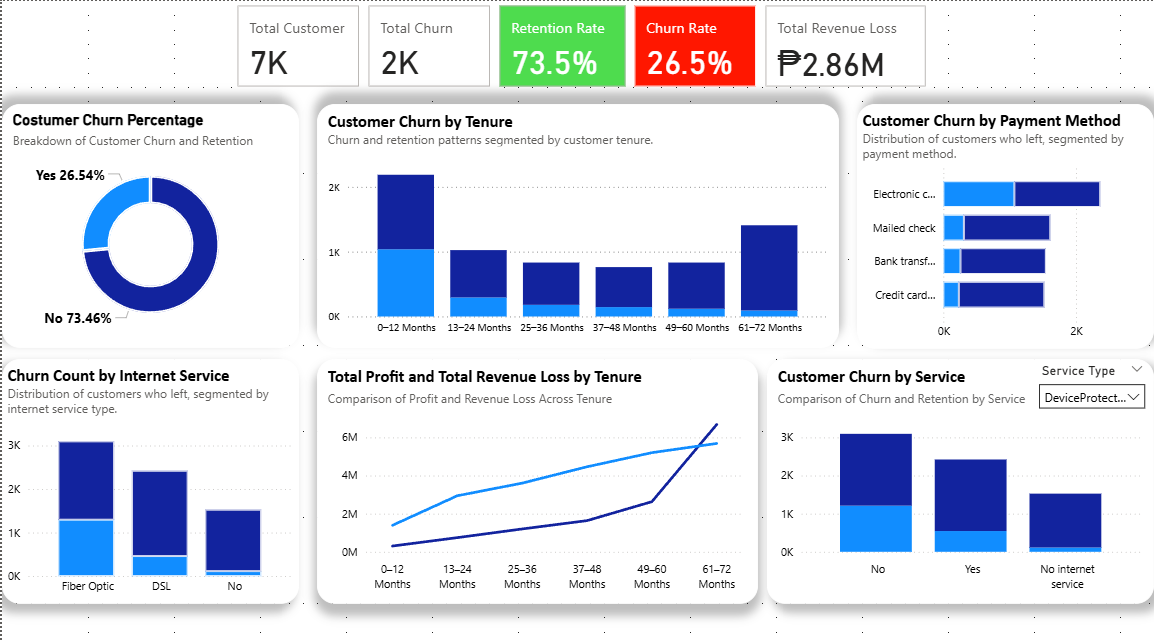

This screenshot's page, from the dashboard's own definition file:
{"tool":"powerbi","page":{"name":"Dashboard","canvas":[1280,720],"ordinal":0},"visuals":[{"type":"columnChart","title":"Customer Churn by Service","fields":{"Category":["ServiceData.SubscriptionStatus"],"Y":["ServiceData.Total Churn_ServiceData","ServiceData.Total Retention_ServiceData"]},"box":[850,397.8,430,272.2],"z":0,"group":"g1"},{"type":"cardVisual","fields":{"Data":["Telco-Customer-Churn.Total Customer"]},"box":[256.7,0,145.6,100],"z":0},{"type":"columnChart","title":"Churn Count by Internet Service","fields":{"Category":["Telco-Customer-Churn.InternetService"],"Y":["Telco-Customer-Churn.Churn Count","Telco-Customer-Churn.Retention Count"]},"box":[0,397.8,330,272.2],"z":0},{"type":"slicer","fields":{"Values":["ServiceData.ServiceType"]},"box":[1142.2,397.8,137.8,57.8],"z":1000,"group":"g1"},{"type":"cardVisual","fields":{"Data":["Telco-Customer-Churn.Total Churn"]},"box":[402.2,0,145.6,100],"z":1000},{"type":"columnChart","title":"Customer Churn by Tenure","fields":{"Category":["Telco-Customer-Churn.TenureGroup"],"Y":["Telco-Customer-Churn.Churn Count","Telco-Customer-Churn.Retention Count"]},"box":[350,114.4,580,271.1],"z":1000},{"type":"cardVisual","fields":{"Data":["Telco-Customer-Churn.Churn Rate"]},"box":[697.8,0,145,100],"z":2000},{"type":"barChart","title":"Customer Churn by Payment Method","fields":{"Category":["Telco-Customer-Churn.PaymentMethod"],"Y":["Telco-Customer-Churn.Churn Count","Telco-Customer-Churn.Retention Count"]},"box":[950,114.4,330,272.2],"z":2000},{"type":"cardVisual","fields":{"Data":["Telco-Customer-Churn.Total Revenue Loss"]},"box":[843.3,0,188.9,100],"z":3000},{"type":"cardVisual","fields":{"Data":["Telco-Customer-Churn.Retention Rate"]},"box":[547.8,0,150,100],"z":4000},{"type":"donutChart","title":"Costumer Churn Percentage","fields":{"Y":["Count(Telco-Customer-Churn.customerID)"],"Category":["Telco-Customer-Churn.Churn"]},"box":[0,114.4,330,271.1],"z":4000},{"type":"lineChart","title":"Total Profit and Total Revenue Loss by Tenure","fields":{"Category":["Telco-Customer-Churn.TenureGroup"],"Y":["Telco-Customer-Churn.Total Profit"],"Y2":["Telco-Customer-Churn.Total Revenue Loss"]},"box":[350,397.8,490,272.2],"z":5000},{"type":"group","id":"g1","title":"Group 2","box":[850,397.8,430,272.2],"z":5503}]}

Visuals, with their boxes in screenshot pixels (x1, y1, x2, y2), scaled from the page's 1280x720 canvas onto the 1154x642 screenshot:
"Customer Churn by Service" columnChart: BBox(766, 355, 1153, 597)
cardVisual - Telco-Customer-Churn.Total Customer: BBox(231, 0, 363, 89)
"Churn Count by Internet Service" columnChart: BBox(0, 355, 298, 597)
slicer - ServiceData.ServiceType: BBox(1030, 355, 1153, 406)
cardVisual - Telco-Customer-Churn.Total Churn: BBox(363, 0, 494, 89)
"Customer Churn by Tenure" columnChart: BBox(316, 102, 838, 344)
cardVisual - Telco-Customer-Churn.Churn Rate: BBox(629, 0, 760, 89)
"Customer Churn by Payment Method" barChart: BBox(856, 102, 1153, 345)
cardVisual - Telco-Customer-Churn.Total Revenue Loss: BBox(760, 0, 931, 89)
cardVisual - Telco-Customer-Churn.Retention Rate: BBox(494, 0, 629, 89)
"Costumer Churn Percentage" donutChart: BBox(0, 102, 298, 344)
"Total Profit and Total Revenue Loss by Tenure" lineChart: BBox(316, 355, 757, 597)
"Group 2" group: BBox(766, 355, 1153, 597)
